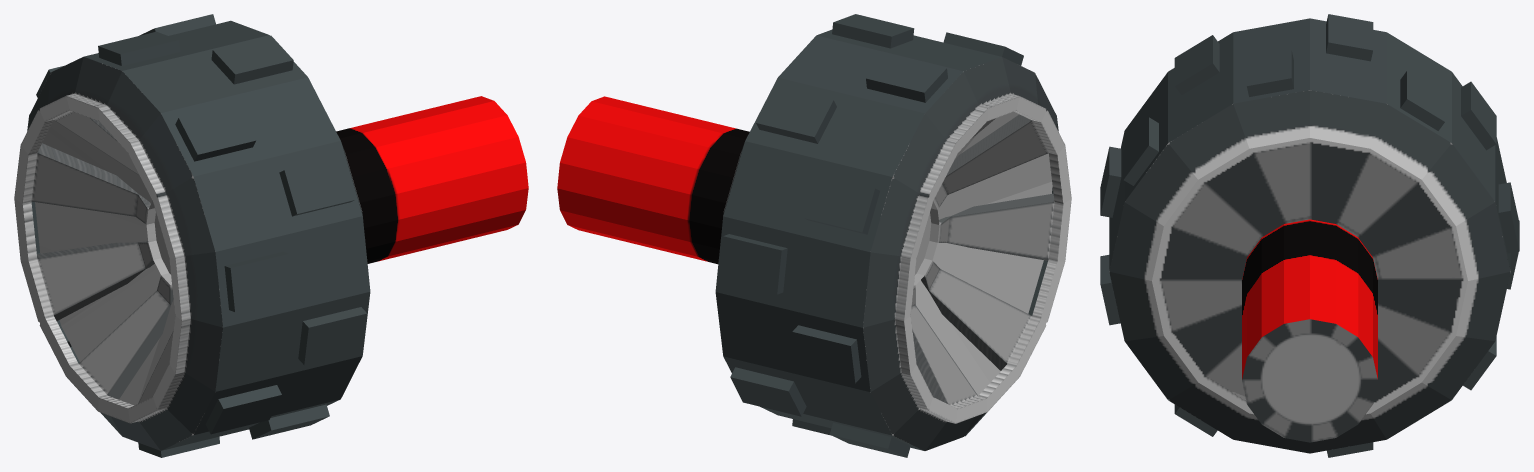
Rendered from Mesh_Car_tireRight.fbx.
3 renders of one model, left to right at view 1: azimuth 30°, elevation 25°; view 2: azimuth 150°, elevation 25°; view 3: azimuth 270°, elevation 25°, orthographic.
Visible parts, largest first — view 1: Cylinder.003; view 2: Cylinder.003; view 3: Cylinder.003.
Part boxes in pixels (x1,y1,x2,y2): Cylinder.003: (14, 14, 528, 457); Cylinder.003: (557, 14, 1071, 457); Cylinder.003: (1100, 14, 1519, 457).
Bounding box in the file's own units: 186 × 171 × 171.
